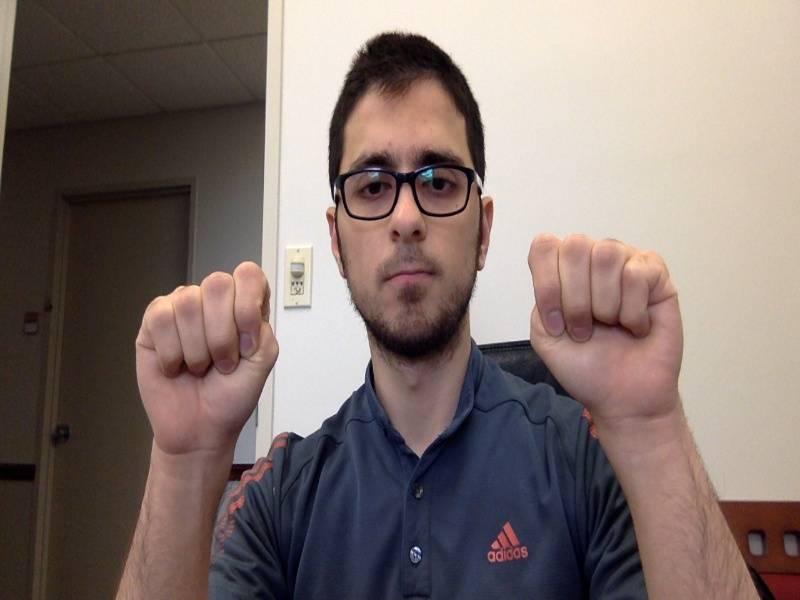0-hand: (530, 234, 691, 418), (137, 263, 279, 455)
